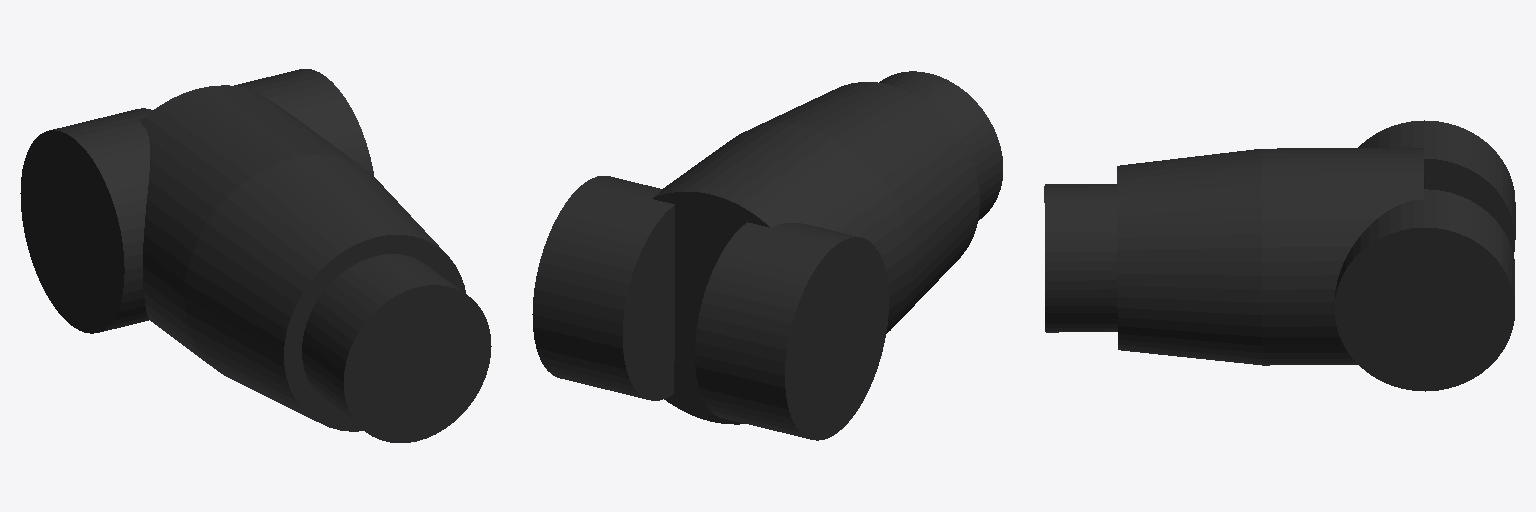
URDF robot description (gripbot):
<?xml version="1.0"?>
<!-- created with Phobos 0.7 -->
<robot name="gripbot">

  <link name="arm_visual_link">
    <inertial>
      <origin xyz="0 0 0" rpy="0 0 0"/>
      <mass value="0.10"/>
      <inertia ixx="0.001" ixy="0" ixz="0" iyy="0.001" iyz="0" izz="0.001"/>
    </inertial>
    <visual name="arm_visual">
      <origin xyz="0 0 0" rpy="0 0 0"/>
      <geometry>
        <mesh filename="package://gripbot_description/meshes/stl/ID36.001.stl" scale="1.0 1.0 1.0"/>
      </geometry>
      <material name="Color_A05"/>
    </visual>
    <collision name="gripbot::arm_visual">
      <origin xyz="-0.00265 -0.19123 0.0002" rpy="0 0 0"/>
      <geometry>
        <box size="0.15244 0.53451 0.15245"/>
      </geometry>
    </collision>
    <collision name="gripbot::girdle_receptor_visual">
      <origin xyz="0 0 0" rpy="0 0 0"/>
      <geometry>
        <box size="0.18304 0.15204 0.15204"/>
      </geometry>
    </collision>
  </link>

  <link name="base_column_link">
    <inertial>
      <origin xyz="0 0 0" rpy="0 0 0"/>
      <mass value="0.7"/>
      <inertia ixx="0.001" ixy="0" ixz="0" iyy="0.001" iyz="0" izz="0.001"/>
    </inertial>
    <visual name="base_column_receptor_visual">
      <origin xyz="0 -0.07833 0.30885" rpy="0 0 0"/>
      <geometry>
        <mesh filename="package://gripbot_description/meshes/stl/Circle.002.stl" scale="1.0 1.0 1.0"/>
      </geometry>
      <material name="Color_A05"/>
    </visual>
    <visual name="base_column_visual">
      <origin xyz="0 0 0" rpy="0 0 0"/>
      <geometry>
        <mesh filename="package://gripbot_description/meshes/stl/Circle.stl" scale="1.0 1.0 1.0"/>
      </geometry>
      <material name="Color_M07"/>
    </visual>
    <collision name="gripbot::base_column_mount_visual">
      <origin xyz="0 -0.07833 0.30885" rpy="0 0 0"/>
      <geometry>
        <box size="0.15655 0.17927 0.17927"/>
      </geometry>
    </collision>
    <collision name="gripbot::base_column_visual">
      <origin xyz="0 0 0.15275" rpy="0 0 0"/>
      <geometry>
        <box size="0.15423 0.15423 0.30549"/>
      </geometry>
    </collision>
  </link>

  <link name="base_mount_link">
    <inertial>
      <origin xyz="0 0 0" rpy="0 0 0"/>
      <mass value="3.7"/>
      <inertia ixx="0.001" ixy="0" ixz="0" iyy="0.001" iyz="0" izz="0.001"/>
    </inertial>
    <visual name="base_mount_visual">
      <origin xyz="0 0 0" rpy="0 0 0"/>
      <geometry>
        <mesh filename="package://gripbot_description/meshes/stl/Circle.004.stl" scale="1.0 1.0 1.0"/>
      </geometry>
      <material name="Color_M07"/>
    </visual>
    <collision name="gripbot::base_mount_visual">
      <origin xyz="0 0 -0.01433" rpy="0 0 0"/>
      <geometry>
        <box size="0.4898 0.4898 0.0631"/>
      </geometry>
    </collision>
  </link>

  <link name="forearm_visual_link">
    <inertial>
      <origin xyz="0 0 0" rpy="0 0 0"/>
      <mass value="0.06"/>
      <inertia ixx="0.001" ixy="0" ixz="0" iyy="0.001" iyz="0" izz="0.001"/>
    </inertial>
    <visual name="forearm_visual">
      <origin xyz="0 0 0" rpy="0 0 0"/>
      <geometry>
        <mesh filename="package://gripbot_description/meshes/stl/ID82.001.stl" scale="1.0 1.0 1.0"/>
      </geometry>
      <material name="Color_M07"/>
    </visual>
    <collision name="forearm_collision">
      <origin xyz="0 0 0" rpy="1.5708 0 0"/>
      <geometry>
        <cylinder radius="0.07905" length="0.26549"/>
      </geometry>
    </collision>
    <collision name="forearm_mount_collision">
      <origin xyz="0 0 0" rpy="1.5708 0 1.5708"/>
      <geometry>
        <cylinder radius="0.0665" length="0.17955"/>
      </geometry>
    </collision>
  </link>

  <link name="girdle_visual_link">
    <inertial>
      <origin xyz="0 0 0" rpy="0 0 0"/>
      <mass value="0.4"/>
      <inertia ixx="0.001" ixy="0" ixz="0" iyy="0.001" iyz="0" izz="0.001"/>
    </inertial>
    <visual name="girdle_mount_visual">
      <origin xyz="0 0 0" rpy="0 0 0"/>
      <geometry>
        <mesh filename="package://gripbot_description/meshes/stl/Circle.005.stl" scale="1.0 1.0 1.0"/>
      </geometry>
      <material name="Color_A05"/>
    </visual>
    <visual name="girdle_receptor_visual">
      <origin xyz="0 0 0" rpy="0 0 0"/>
      <geometry>
        <mesh filename="package://gripbot_description/meshes/stl/Circle.001.stl" scale="1.0 1.0 1.0"/>
      </geometry>
      <material name="Color_A05"/>
    </visual>
    <visual name="girdle_visual">
      <origin xyz="0 0 0" rpy="0 0 0"/>
      <geometry>
        <mesh filename="package://gripbot_description/meshes/stl/Circle.003.stl" scale="1.0 1.0 1.0"/>
      </geometry>
      <material name="Color_A05"/>
    </visual>
    <collision name="gripbot::girdle_visual">
      <origin xyz="0 0 0.19929" rpy="0 0 0"/>
      <geometry>
        <box size="0.15423 0.15423 0.30864"/>
      </geometry>
    </collision>
  </link>

  <joint name="arm_visual_link" type="revolute">
    <origin xyz="0 -0.06624 0.34976" rpy="0 0 0"/>
    <parent link="girdle_visual_link"/>
    <child link="arm_visual_link"/>
    <axis xyz="1.0 0 0"/>
    <limit lower="-1.5708" upper="0.59341" effort="135000.0" velocity="6000.28319"/>
  </joint>

  <joint name="base_column_link" type="revolute">
    <origin xyz="0 0 0" rpy="0 0 0"/>
    <parent link="base_mount_link"/>
    <child link="base_column_link"/>
    <axis xyz="0 0 1.0"/>
    <limit lower="-3.14159" upper="3.14159" effort="135000.0" velocity="6000.28319"/>
  </joint>

  <joint name="forearm_visual_link" type="revolute">
    <origin xyz="-0.00268 -0.39555 -0.0001" rpy="0 0 0"/>
    <parent link="arm_visual_link"/>
    <child link="forearm_visual_link"/>
    <axis xyz="1.0 0 0"/>
    <limit lower="-1.5708" upper="2.18166" effort="135000.0" velocity="6000.28319"/>
  </joint>

  <joint name="girdle_visual_link" type="revolute">
    <origin xyz="0 -0.07833 0.30885" rpy="0 0 0"/>
    <parent link="base_column_link"/>
    <child link="girdle_visual_link"/>
    <axis xyz="1.0 0 0"/>
    <limit lower="-0.5236" upper="1.95477" effort="135000.0" velocity="6000.28319"/>
  </joint>

  <!-- Transmission -->
  <transmission name="base_column_tran1">
    <type>transmission_interface/SimpleTransmission</type>
    <joint name="base_column_link">
      <hardwareInterface>hardware_interface/EffortJointInterface</hardwareInterface>
    </joint>
    <actuator name="base_column_motor1">
      <hardwareInterface>hardware_interface/EffortJointInterface</hardwareInterface>
      <mechanicalReduction>1</mechanicalReduction>
    </actuator>
  </transmission>


  <transmission name="girdle_tran1">
    <type>transmission_interface/SimpleTransmission</type>
    <joint name="girdle_visual_link">
      <hardwareInterface>hardware_interface/EffortJointInterface</hardwareInterface>
    </joint>
    <actuator name="girdle_motor1">
      <hardwareInterface>hardware_interface/EffortJointInterface</hardwareInterface>
      <mechanicalReduction>1</mechanicalReduction>
    </actuator>
  </transmission>

  <transmission name="forearm_tran1">
    <type>transmission_interface/SimpleTransmission</type>
    <joint name="forearm_visual_link">
      <hardwareInterface>hardware_interface/EffortJointInterface</hardwareInterface>
    </joint>
    <actuator name="forearm_motor1">
      <hardwareInterface>hardware_interface/EffortJointInterface</hardwareInterface>
      <mechanicalReduction>1</mechanicalReduction>
    </actuator>
  </transmission>

  <transmission name="arm_tran1">
    <type>transmission_interface/SimpleTransmission</type>
    <joint name="arm_visual_link">
      <hardwareInterface>hardware_interface/EffortJointInterface</hardwareInterface>
    </joint>
    <actuator name="arm_motor1">
      <hardwareInterface>hardware_interface/EffortJointInterface</hardwareInterface>
      <mechanicalReduction>1</mechanicalReduction>
    </actuator>
  </transmission>

  <material name="Color_A05">
    <color rgba="1.0 0 0 1.0"/>
  </material>

  <material name="Color_M07">
    <color rgba="0.22745 0.22745 0.22745 1.0"/>
  </material>

  <!-- ros_control plugin -->
  <gazebo>
    <plugin name="gazebo_ros_control" filename="libgazebo_ros_control.so">
      <robotNamespace>/gripbot</robotNamespace>
   	  <robotSimType>gazebo_ros_control/DefaultRobotHWSim</robotSimType>
    </plugin>
  </gazebo>

  <gazebo reference="base_mount_link">
    <selfCollide>false</selfCollide>
    <static>true</static>
    <turnGravityOff>true</turnGravityOff>
  </gazebo>
</robot>

--- Facts derived from the render (not from the file) ---
Views: 3 orthographic renders of the robot side by side, from view 1: azimuth 30°, elevation 25°; view 2: azimuth 150°, elevation 25°; view 3: azimuth 270°, elevation 25°.
Robot: gripbot — 5 links, 4 joints (4 revolute); root link base_mount_link; default pose: all joints at 0.
Links seen in each view (by area): view 1: forearm_visual_link; view 2: forearm_visual_link; view 3: forearm_visual_link.
Boxes of the visible links, left/top/right/bottom form: forearm_visual_link: left=20, top=69, right=491, bottom=442; forearm_visual_link: left=532, top=71, right=1002, bottom=440; forearm_visual_link: left=1044, top=120, right=1515, bottom=391.
Size in the robot's own frame: 0.1778 by 0.3306 by 0.1532 metres.
1 mesh visuals loaded from 8 distinct referenced files (1 binary STL); not drawn: 7 (reference not matched to a file when rendering).